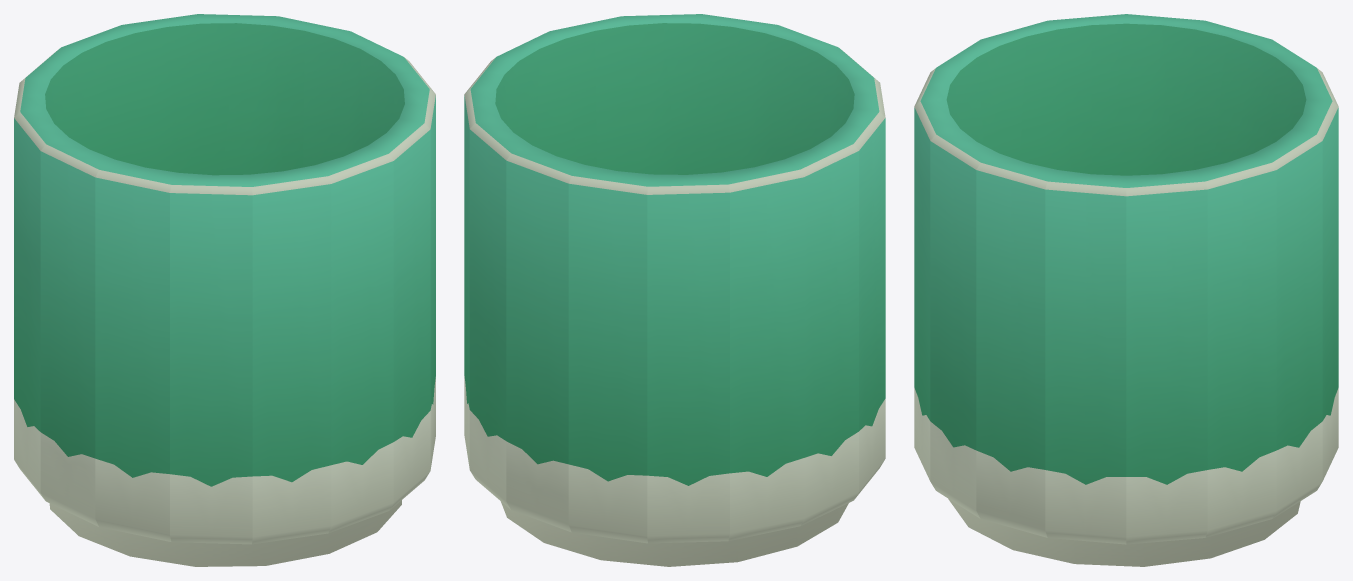
File: SladeJadeCup.glb
3 renders of one model, left to right at view 1: azimuth 30°, elevation 25°; view 2: azimuth 150°, elevation 25°; view 3: azimuth 270°, elevation 25°, orthographic.
Visible parts, largest first — view 1: Cylinder; view 2: Cylinder; view 3: Cylinder.
Boxes of the visible parts, <box> form: Cylinder: <box>14,14,435,566</box>; Cylinder: <box>464,14,885,566</box>; Cylinder: <box>914,14,1338,566</box>.
Bounding box in the file's own units: 2 × 2.04 × 2.
Materials: 1 (1 with a texture image).
